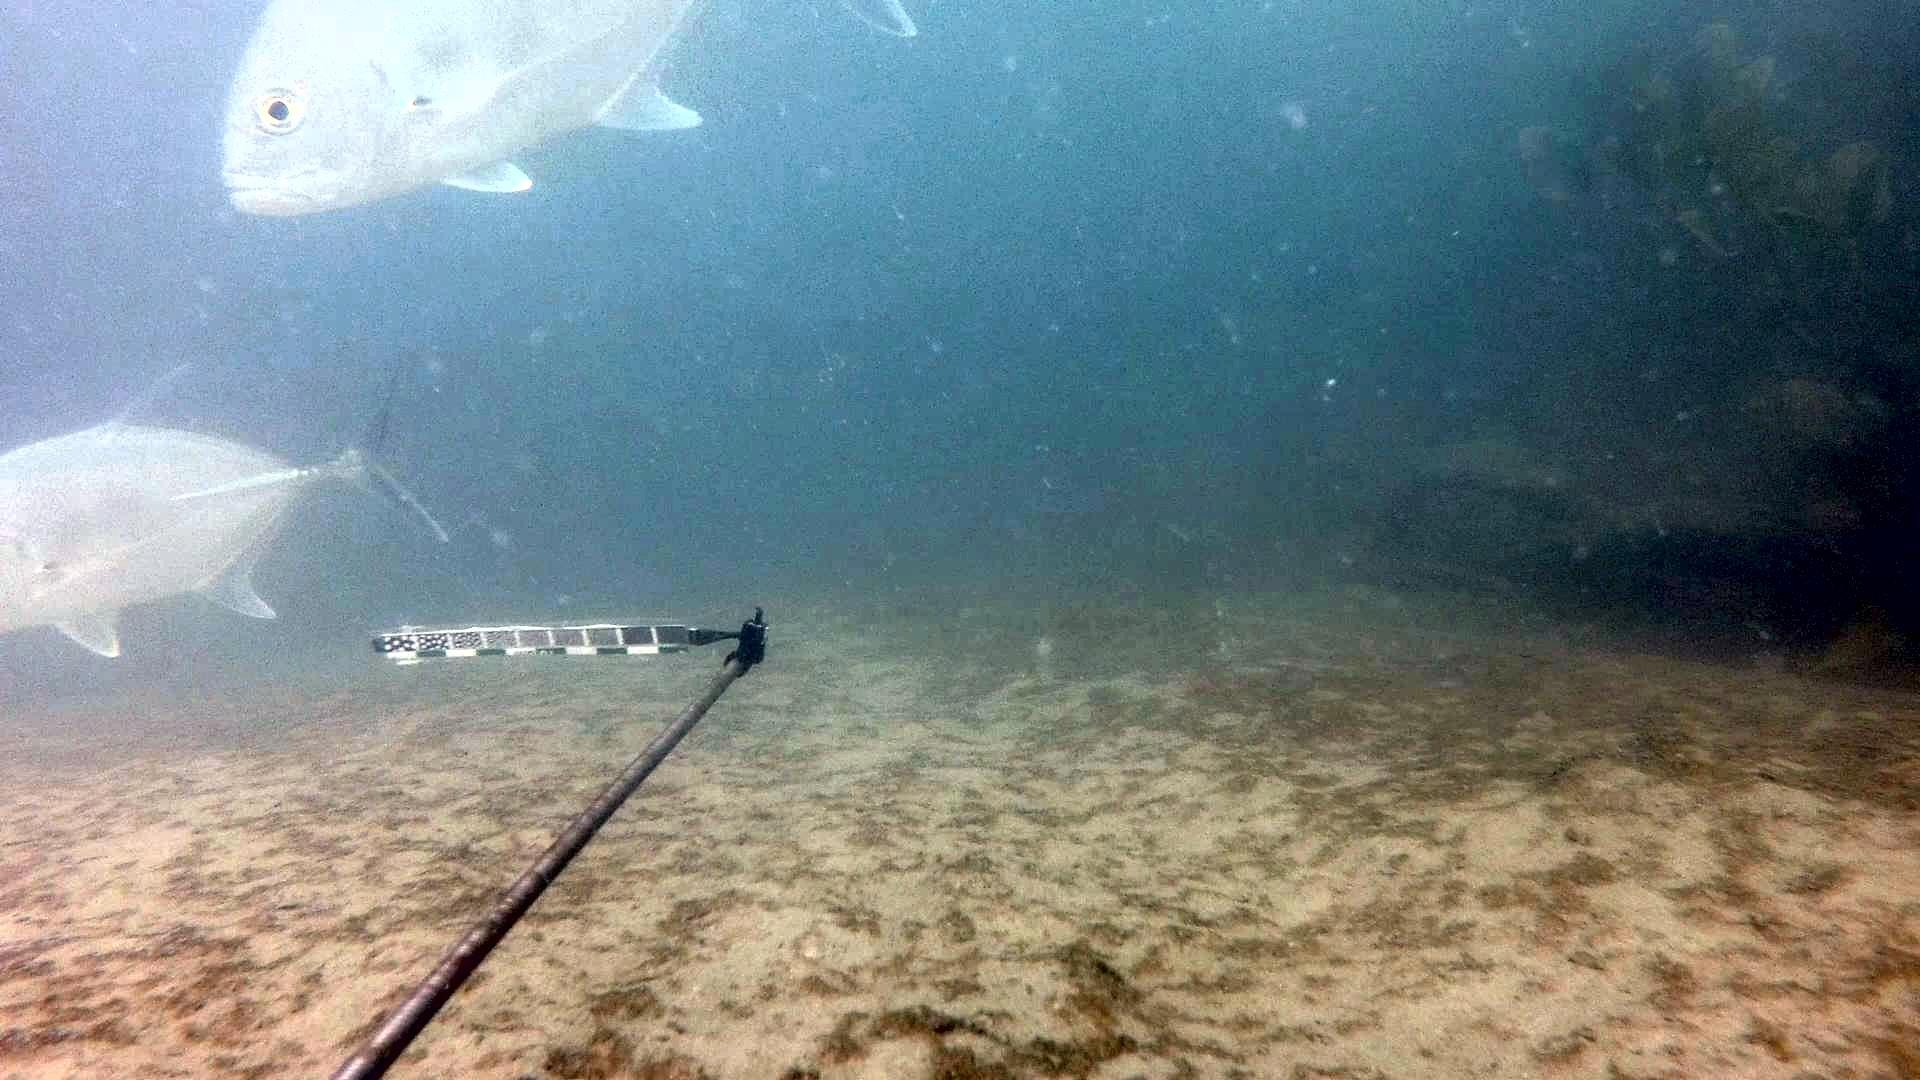caranx: (0, 327, 452, 667), (211, 0, 753, 241)
